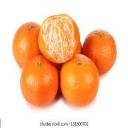orange: (38, 11, 80, 64)
